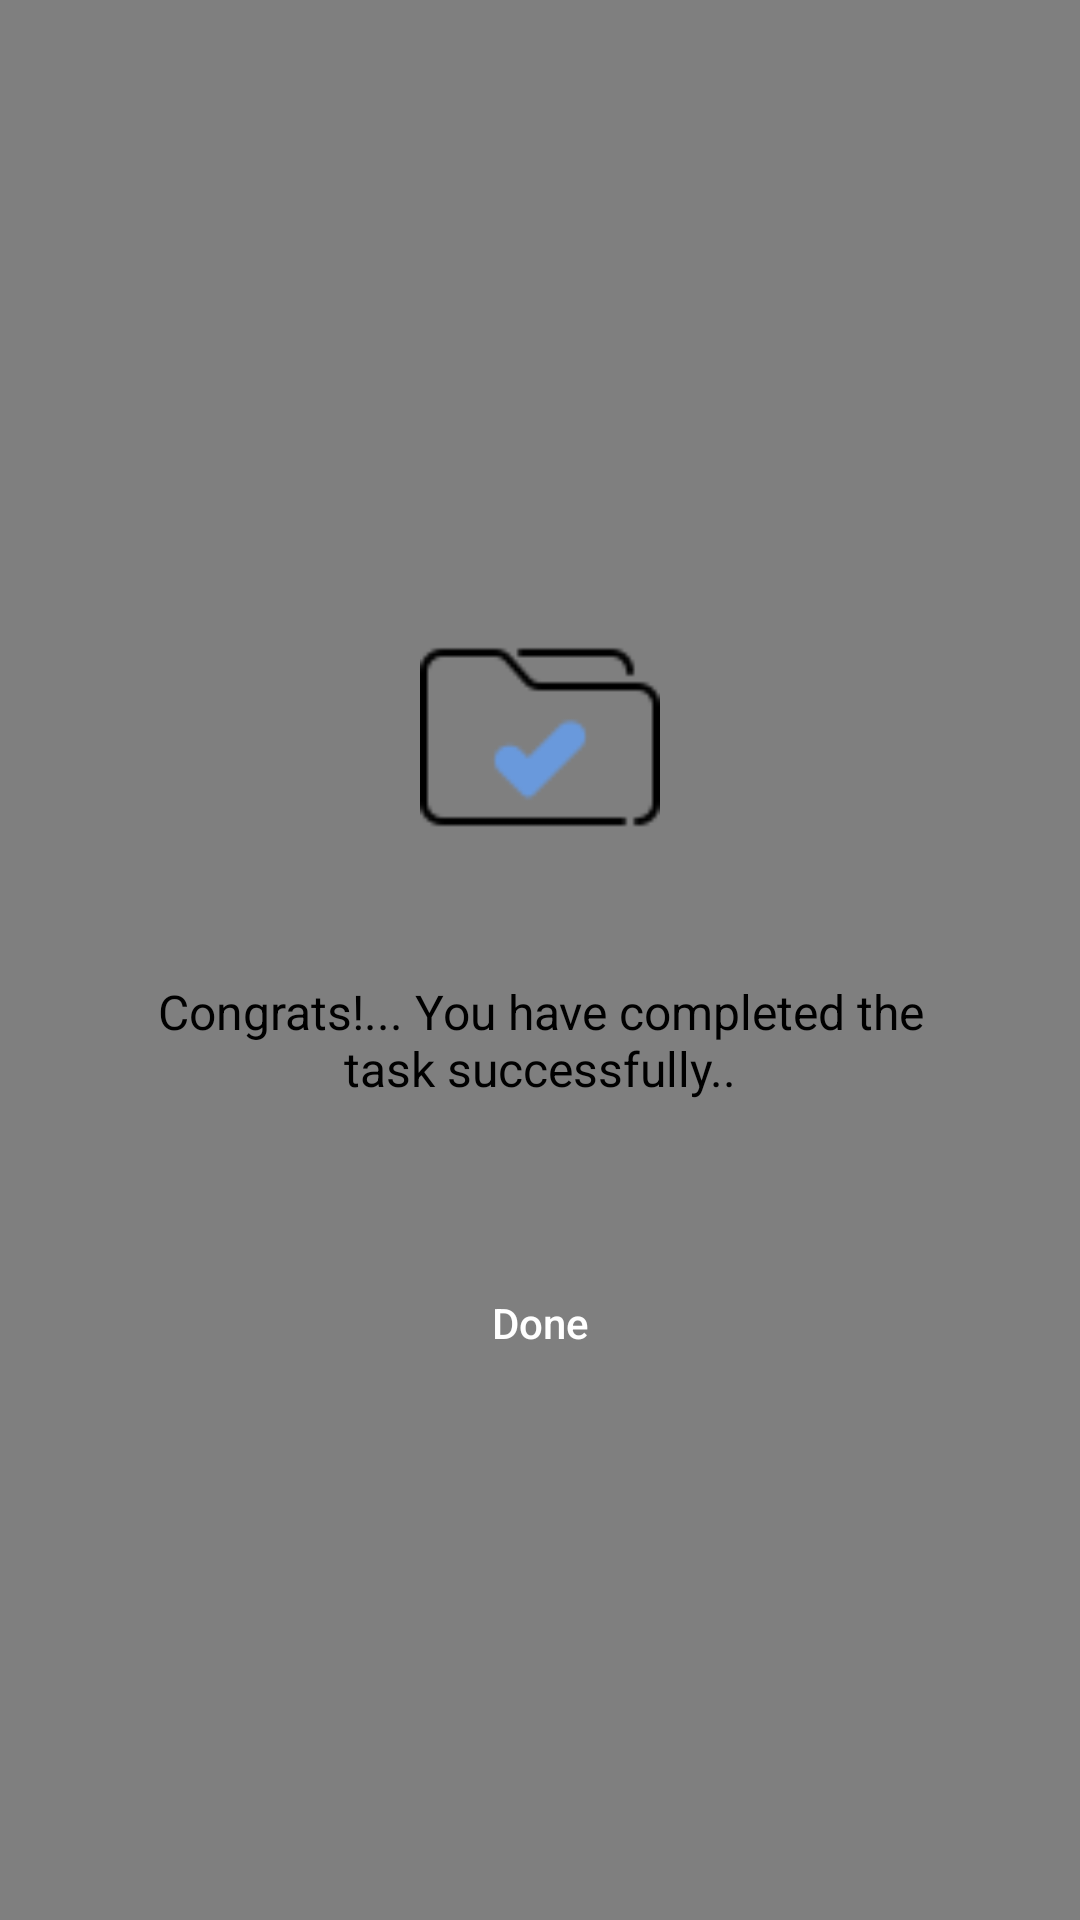

Icons on this 1080px×1920px Android screen, each with its box as [x1, y1, x2, y2]:
correct: [420, 648, 660, 826]
